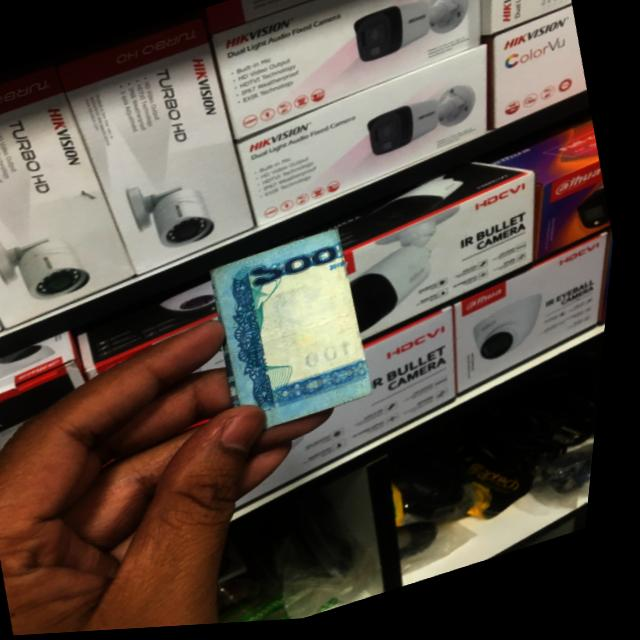Taka: (194, 221, 405, 450)
